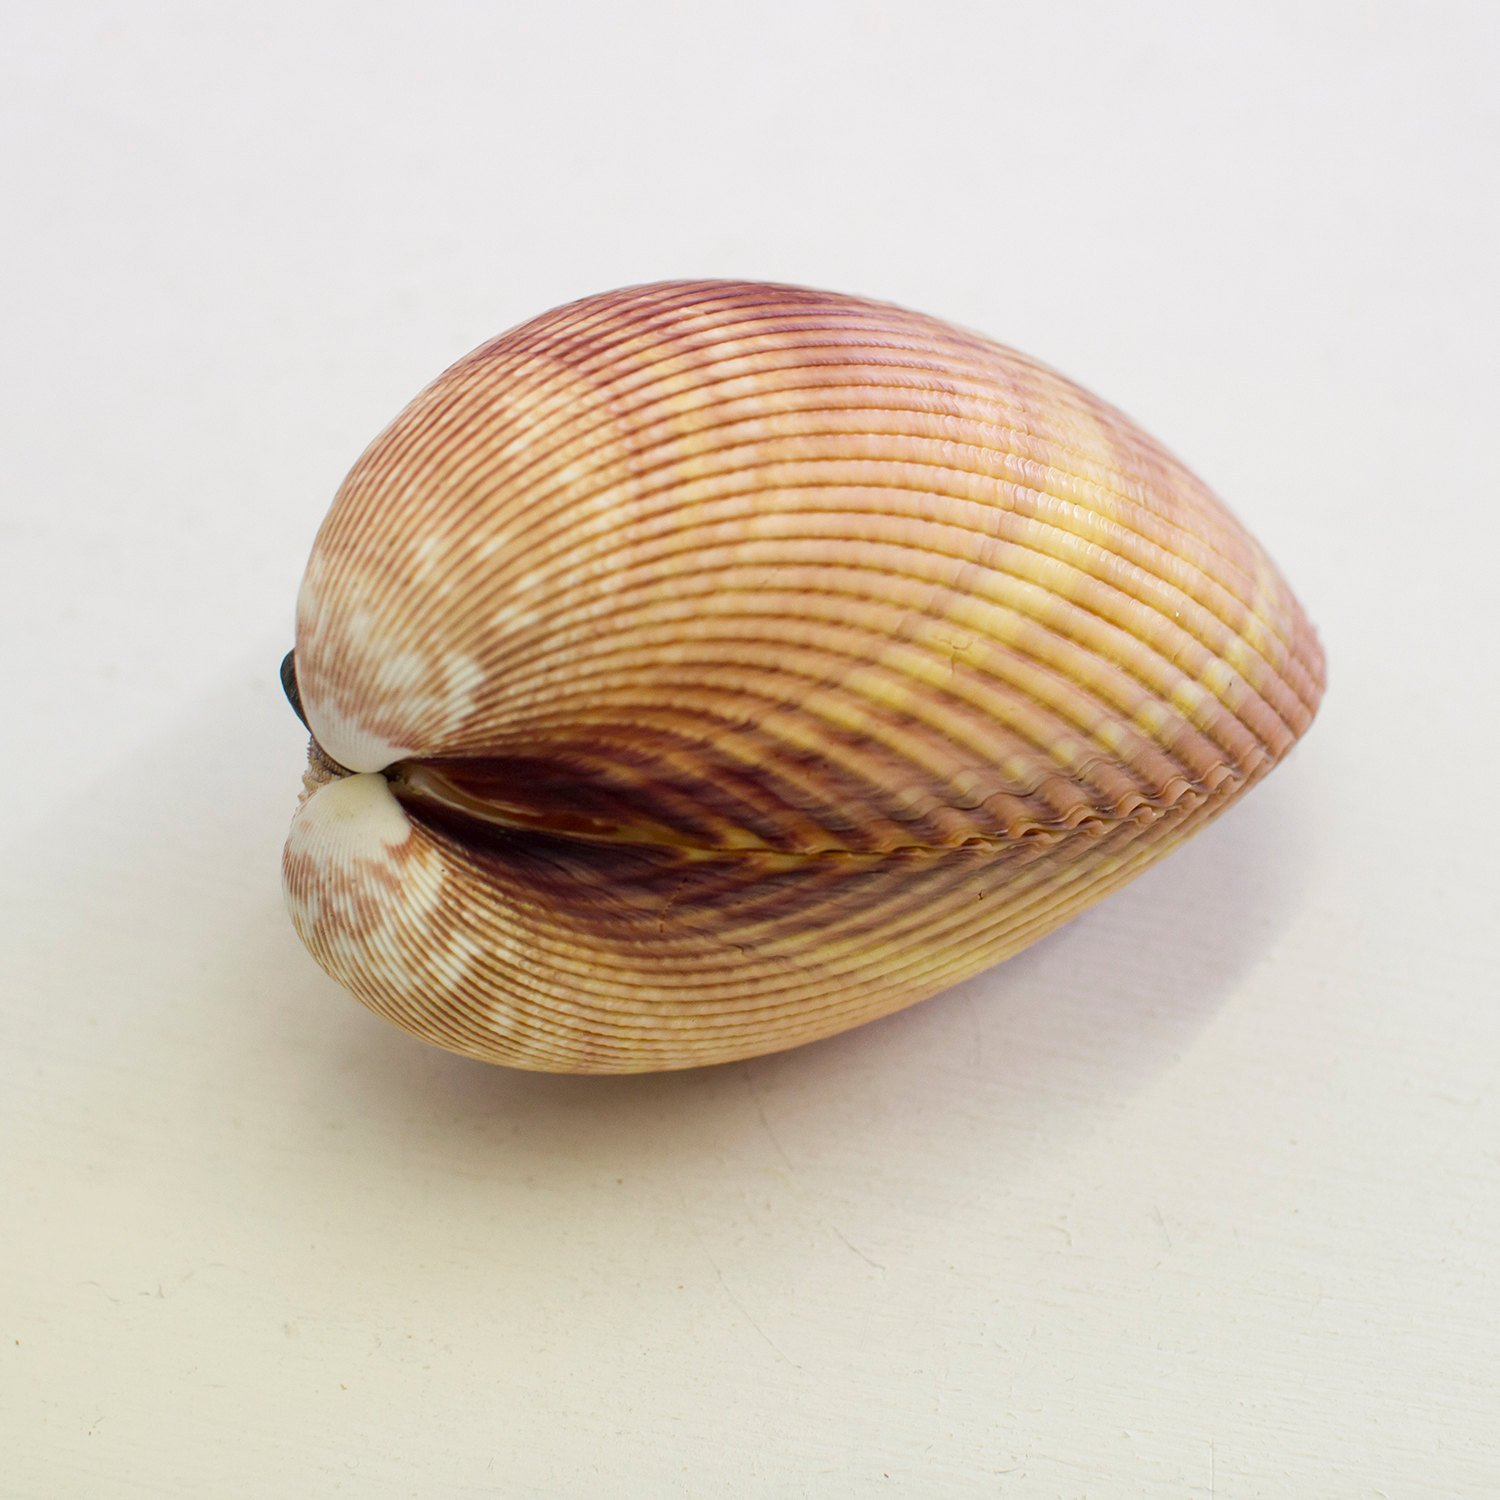cockle: (268, 266, 1345, 1113)
